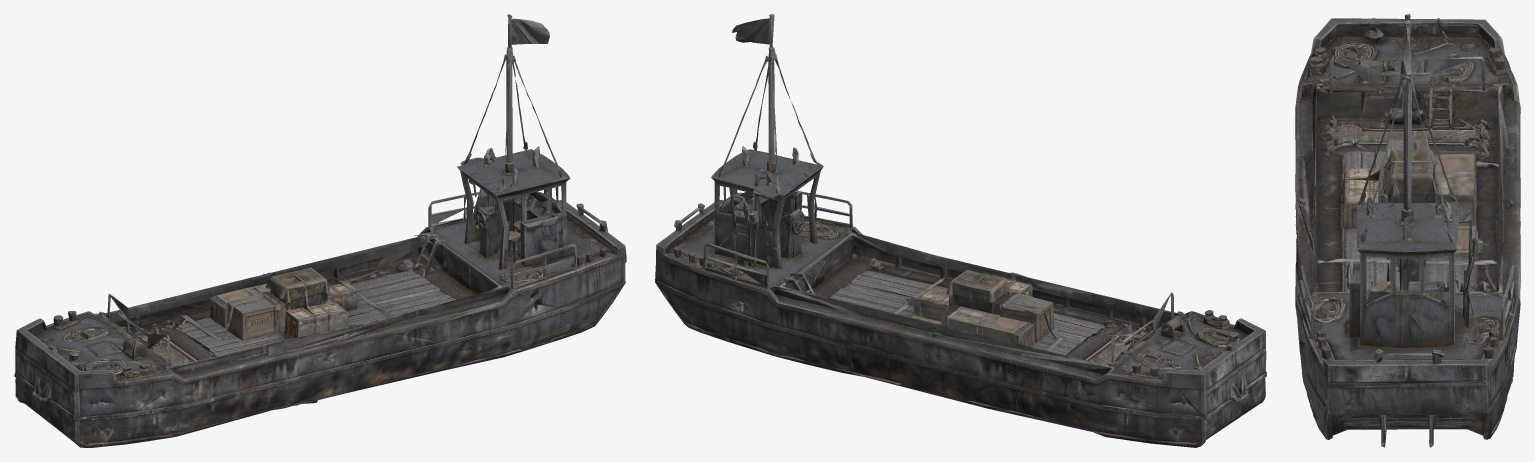
Rendered from keelboat.glb.
3 renders of one model, left to right at view 1: azimuth 30°, elevation 25°; view 2: azimuth 150°, elevation 25°; view 3: azimuth 270°, elevation 25°, orthographic. The views are drawn at different scales.
Visible parts, largest first — view 1: keelboat-centred; view 2: keelboat-centred; view 3: keelboat-centred.
Part boxes in pixels (x1,y1,x2,y2): keelboat-centred: (14, 14, 626, 447); keelboat-centred: (655, 14, 1266, 447); keelboat-centred: (1295, 14, 1520, 447).
Bounding box in the file's own units: 9 × 4.65 × 2.46.
Materials: 1 (1 with a texture image).
